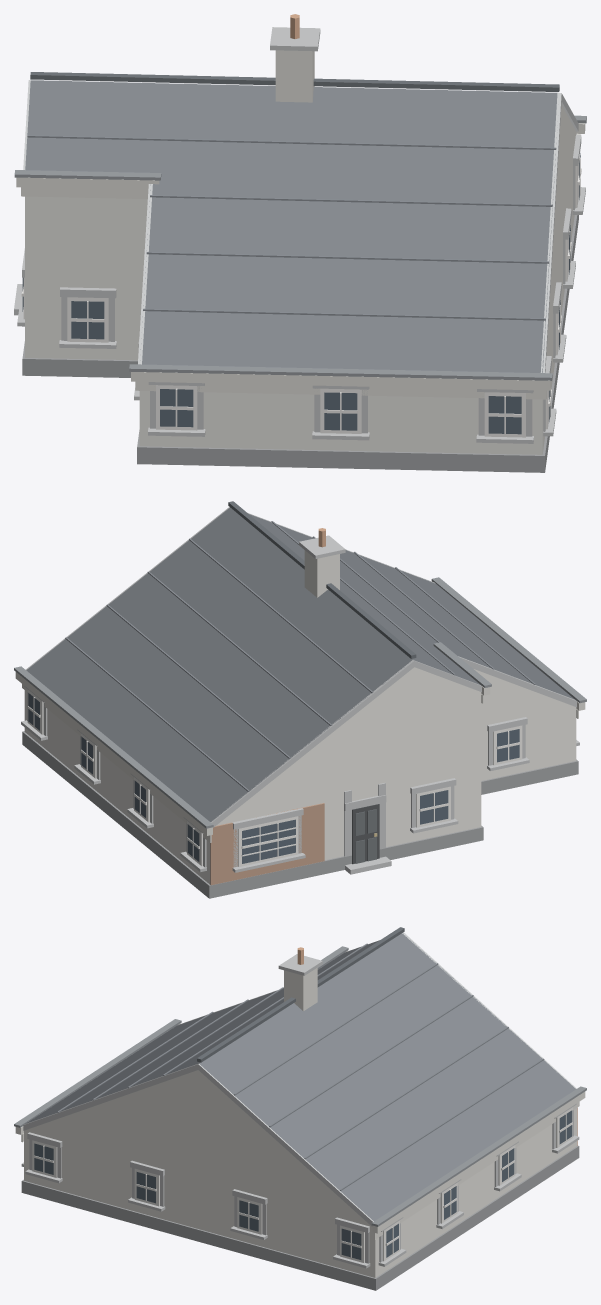
3 views of the same model, one above another, from view 1: azimuth 30°, elevation 25°; view 2: azimuth 150°, elevation 25°; view 3: azimuth 270°, elevation 25° (orthographic). The views are drawn at different scales.
Parts seen in each view (by area): view 1: slate, harl, stone_band, plinth, string, slate_lt, lead, frame, slate_dk, chim_render, window_glass_010, window_glass_009 (+2 smaller); view 2: slate, harl, stone_band, plinth, lead, slate_lt, frame, ss_red, string, window_glass_002, slate_dk, chim_render (+4 smaller); view 3: slate, harl, stone_band, plinth, slate_lt, lead, frame, string, slate_dk, chim_render, window_glass_015, window_glass_014 (+2 smaller).
Boxes of the visible parts, box(x1,y1,x2,y2) form: slate: box(25, 80, 557, 372); harl: box(25, 105, 576, 454); stone_band: box(14, 27, 585, 443); plinth: box(22, 215, 578, 472); string: box(16, 123, 585, 399); slate_lt: box(27, 135, 556, 320); lead: box(14, 115, 586, 380); frame: box(21, 156, 581, 437); slate_dk: box(30, 72, 559, 91); chim_render: box(275, 50, 314, 102); window_glass_010: box(324, 392, 357, 430); window_glass_009: box(160, 389, 193, 427); slate: box(26, 507, 574, 821); harl: box(24, 667, 576, 884); stone_band: box(21, 507, 579, 874); plinth: box(22, 731, 578, 898); lead: box(14, 577, 586, 828); slate_lt: box(65, 521, 535, 791); frame: box(27, 689, 522, 866); ss_red: box(210, 803, 324, 885); string: box(15, 672, 585, 842); window_glass_002: box(242, 819, 295, 863); slate_dk: box(228, 501, 416, 658); chim_render: box(304, 550, 339, 597); slate: box(25, 933, 575, 1221); harl: box(24, 1070, 576, 1277); stone_band: box(21, 932, 579, 1268); plinth: box(21, 1145, 579, 1290); slate_lt: box(57, 943, 544, 1190); lead: box(14, 946, 586, 1226); frame: box(32, 1107, 572, 1262); string: box(15, 951, 585, 1239); slate_dk: box(197, 927, 404, 1062); chim_render: box(284, 967, 317, 1011); window_glass_015: box(341, 1228, 361, 1259); window_glass_014: box(239, 1200, 258, 1231).
Size of the model in its own units: 16.8 by 8.61 by 19.74.
